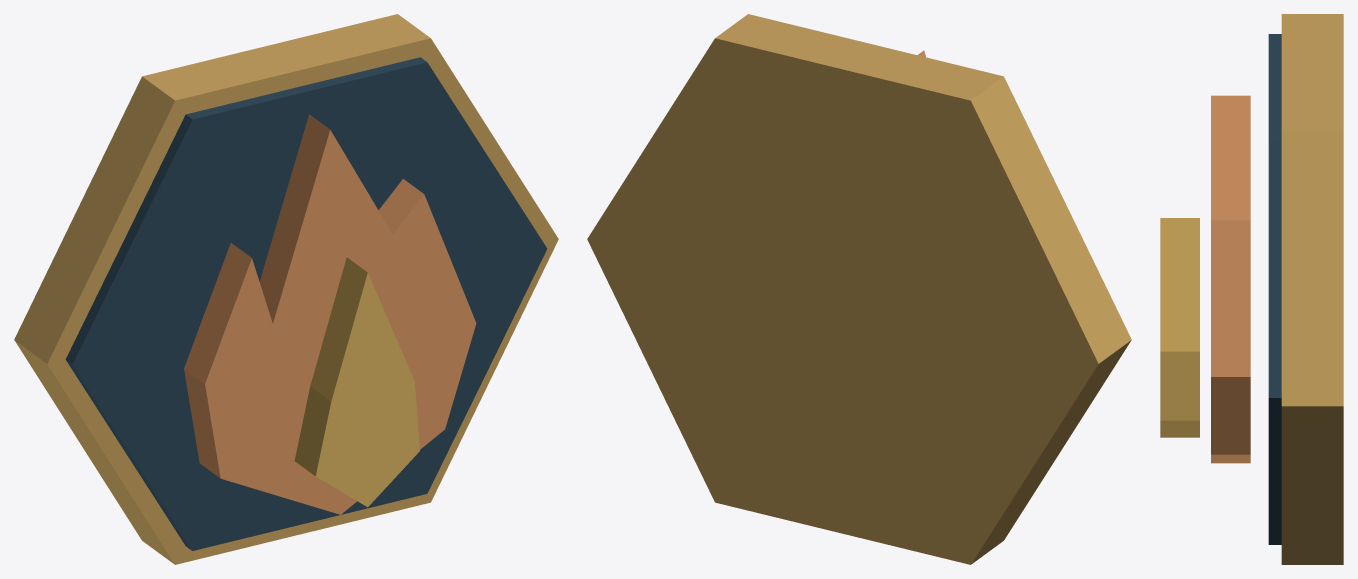
File: fire.fbx
3 views of the same model, side by side, from view 1: azimuth 30°, elevation 25°; view 2: azimuth 150°, elevation 25°; view 3: azimuth 270°, elevation 25° (orthographic). The views are drawn at different scales.
Visible parts, largest first — view 1: fire; view 2: fire; view 3: fire.
Part boxes in pixels (x1,y1,x2,y2): fire: [14, 14, 558, 564]; fire: [587, 14, 1131, 564]; fire: [1160, 14, 1343, 564].
Bounding box in the file's own units: 0.98 × 0.85 × 0.325.
